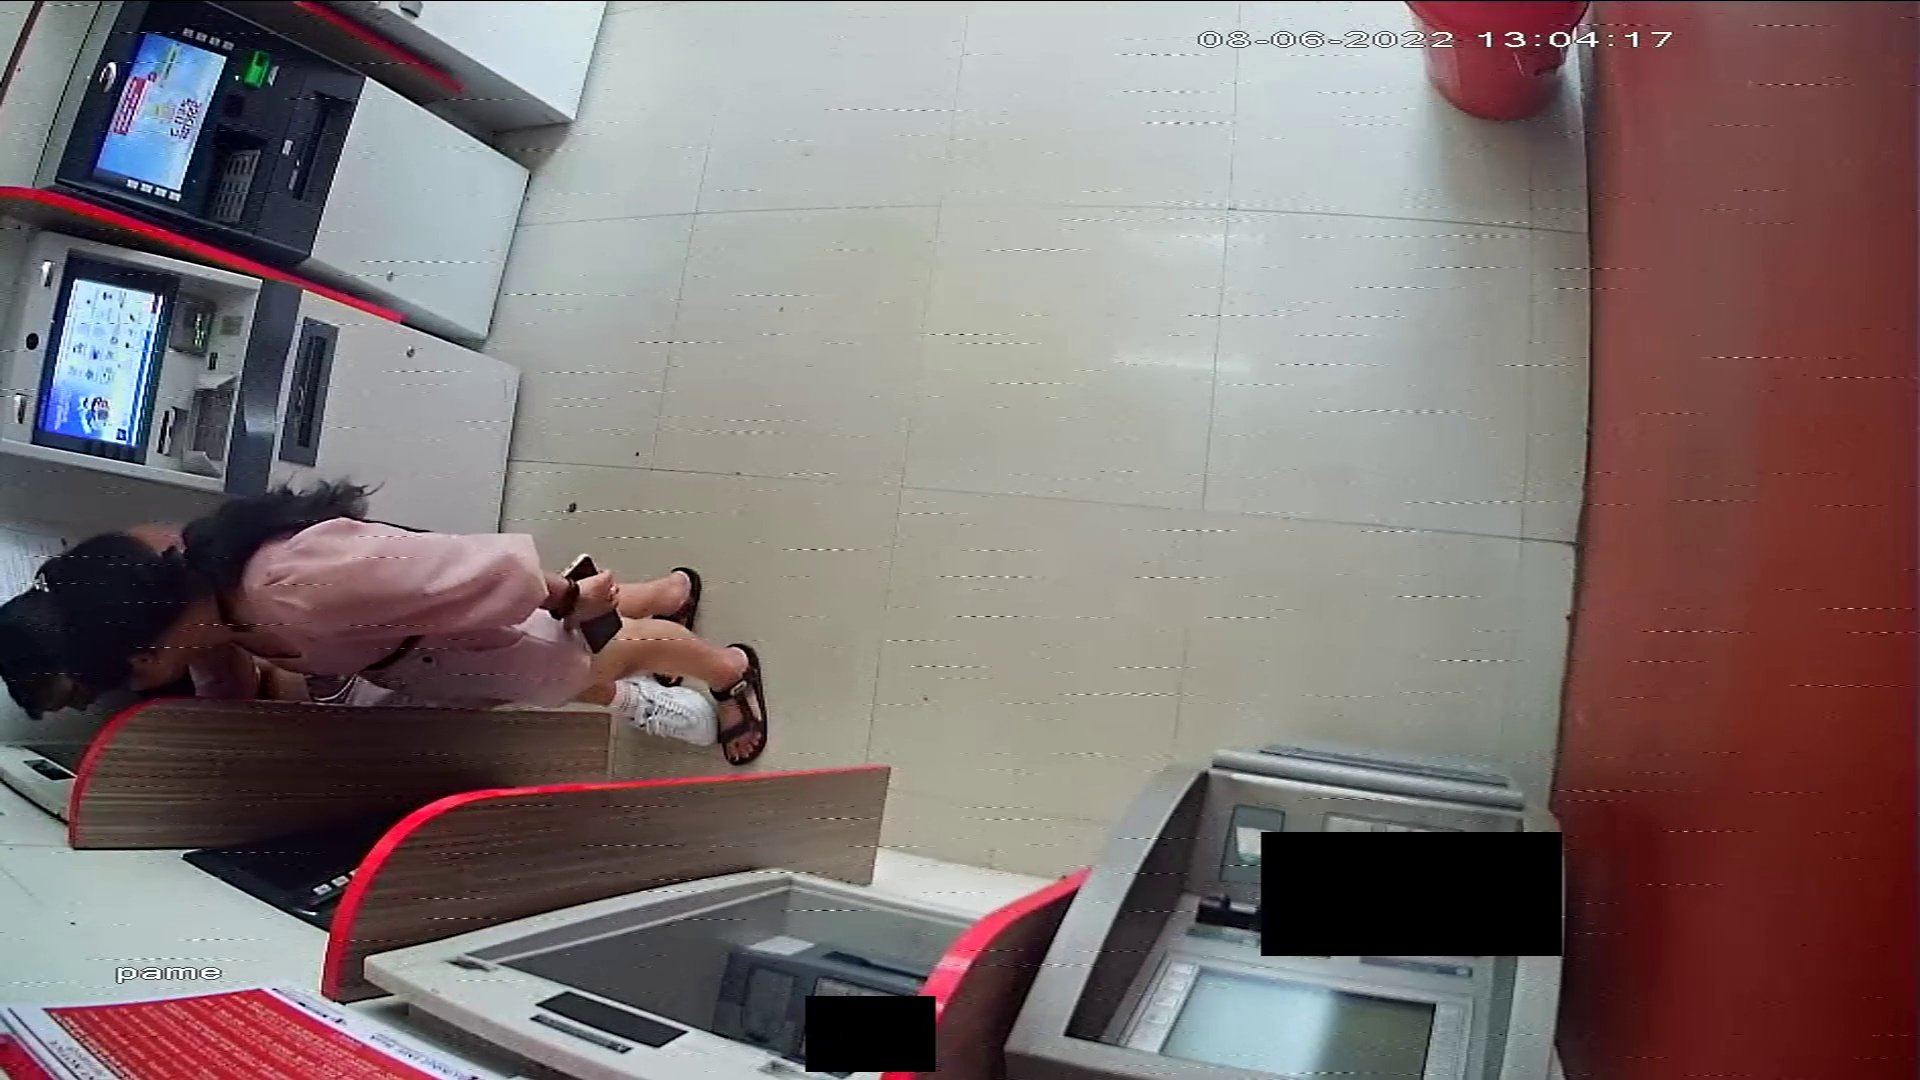person: (57, 489, 771, 769)
phone: (548, 555, 628, 658)
